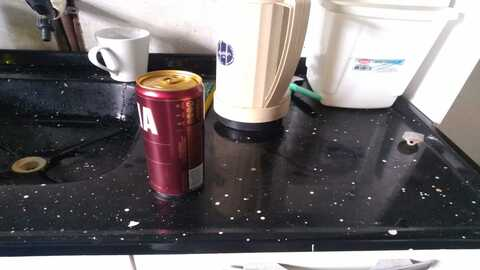duplo_malte: (134, 76, 210, 196)
